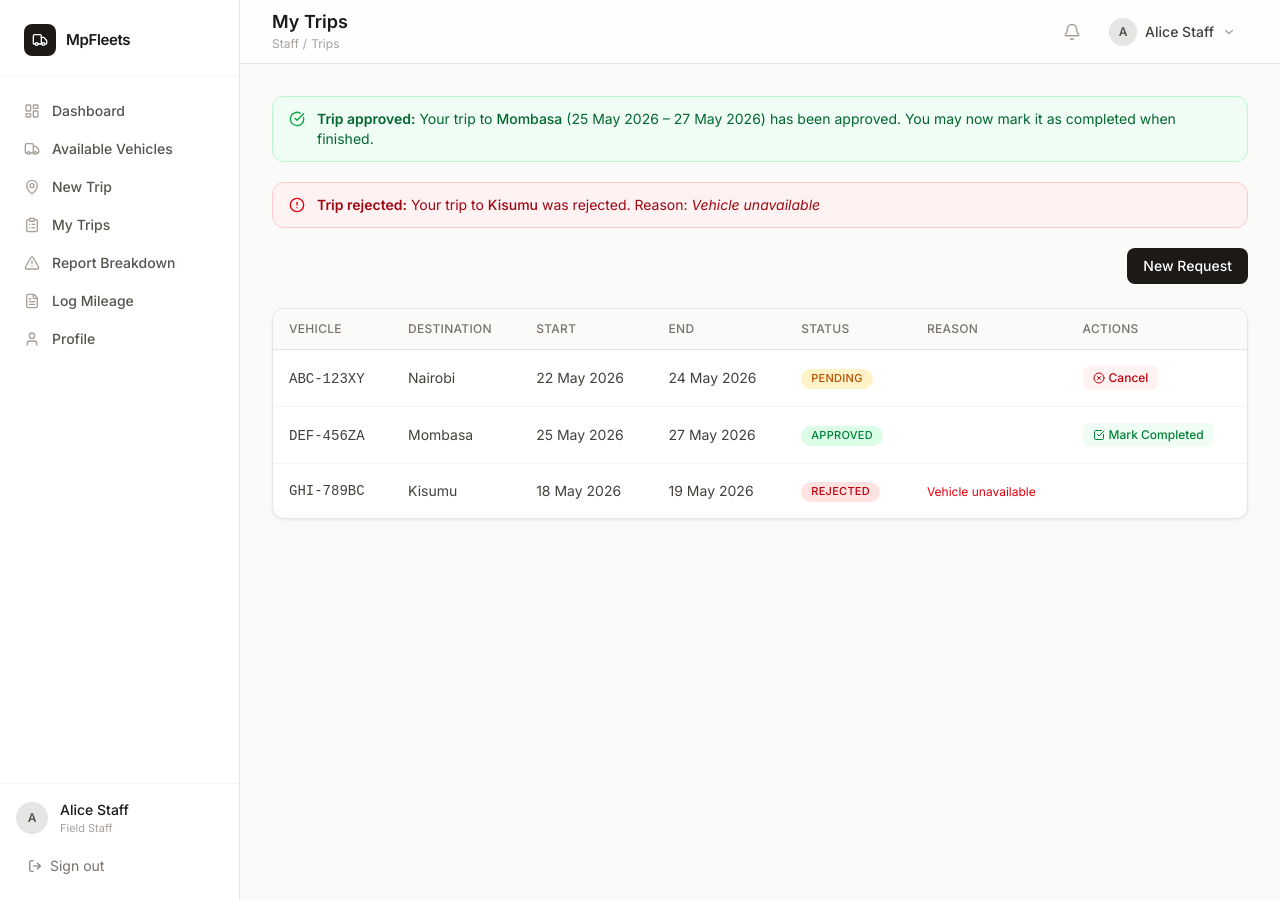
MyTripsPage — Cancel Trip flow › dismisses the modal when Cancel (modal) is clicked
Click the button "Cancel". click: (1120, 378)
box: [1083,366,1158,390]
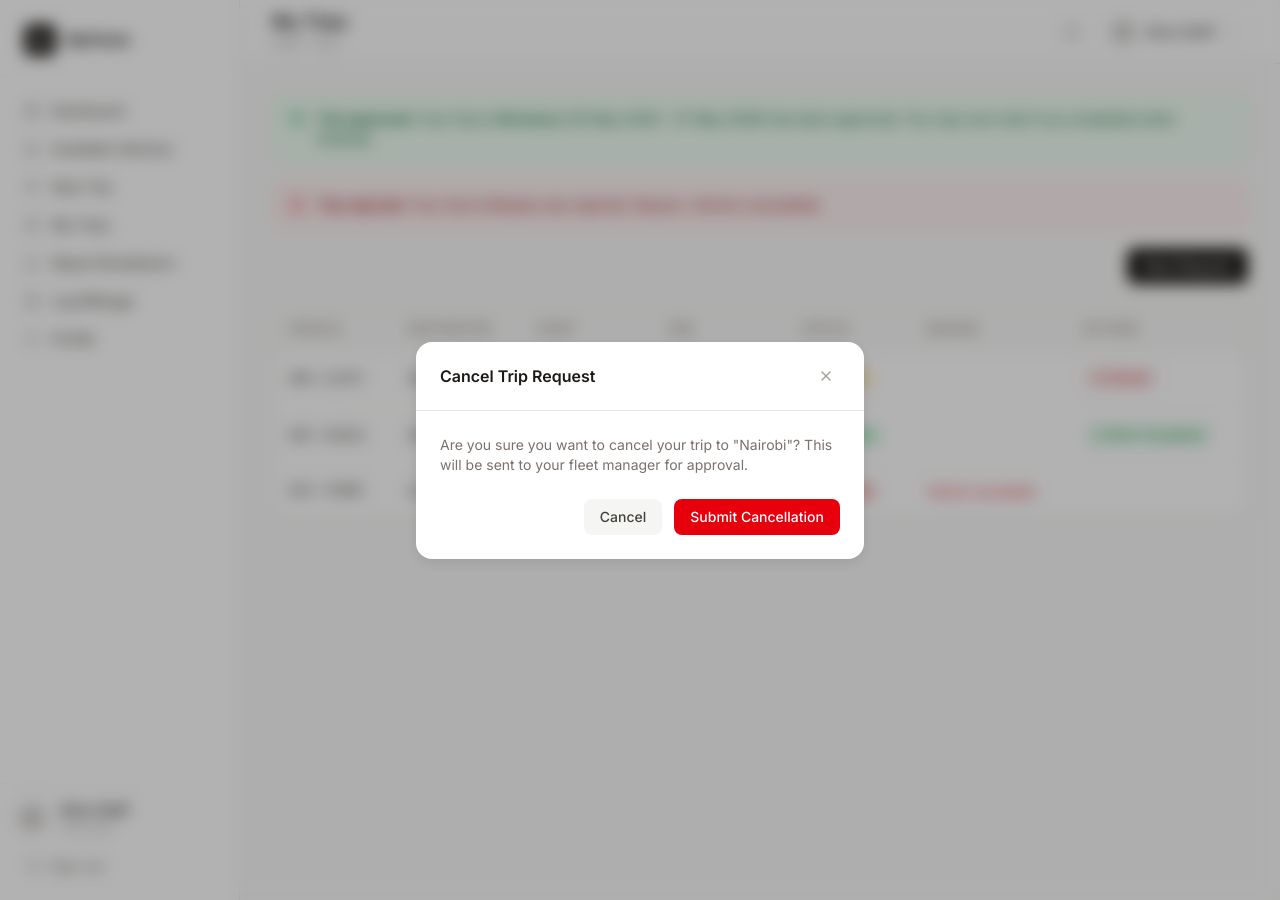
Check: the dialog is shown, box [416,342,864,558]
// The table row also has a "Cancel" button — scope to the dialog
Click the button "Cancel". click: (623, 516)
box: [584,498,662,534]
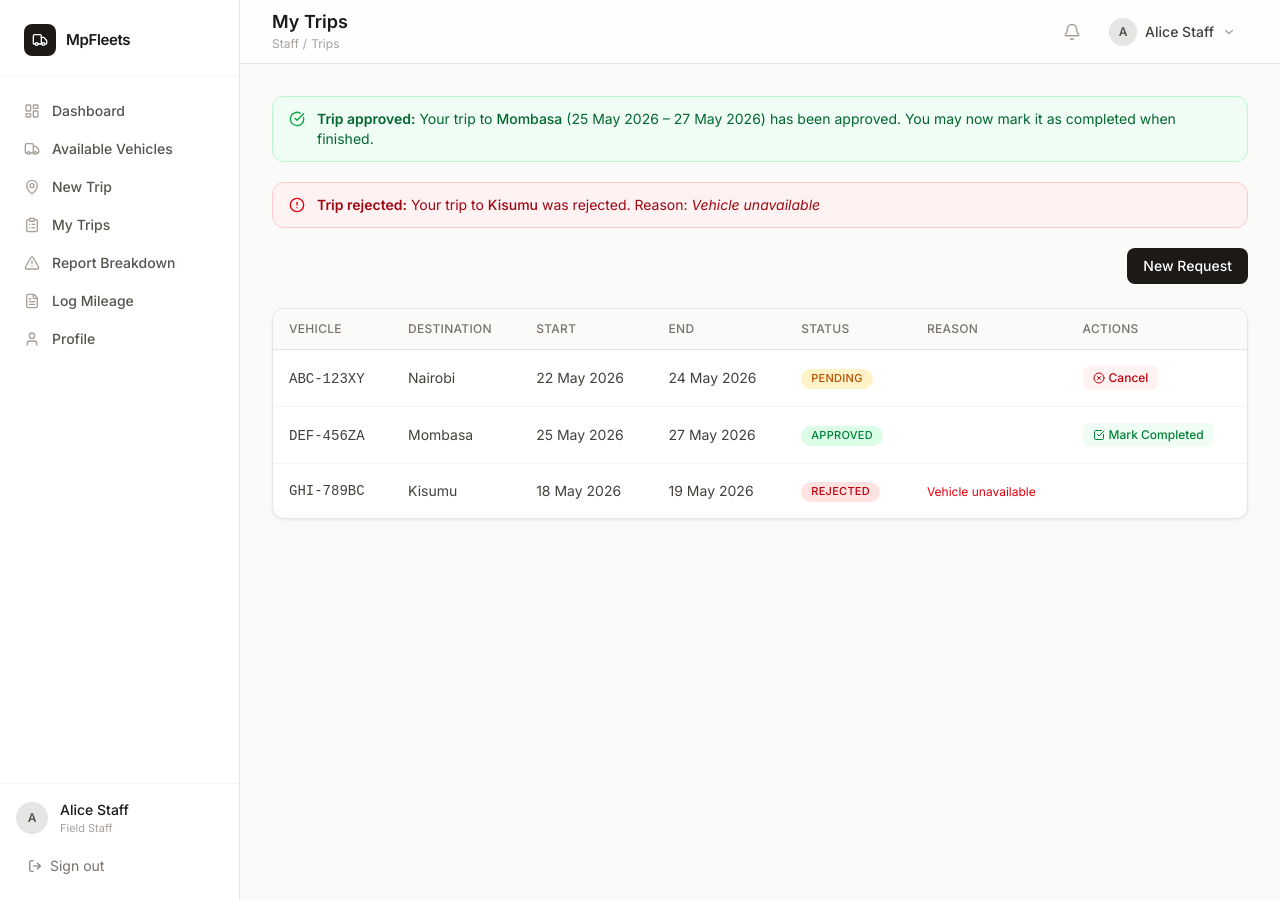
Check: the heading "Cancel Trip Request" is gone
